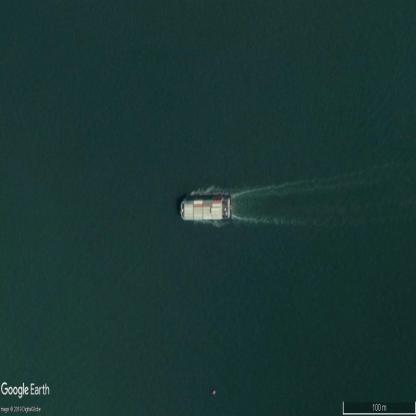ship: (180, 198, 230, 220)
